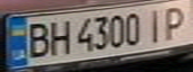0: (124, 9, 145, 46), (109, 11, 127, 48)
3: (90, 14, 112, 52)
4: (72, 15, 96, 53)
B: (21, 19, 54, 60)
H: (45, 17, 72, 56)
I: (142, 6, 172, 43)
P: (157, 2, 193, 40)
